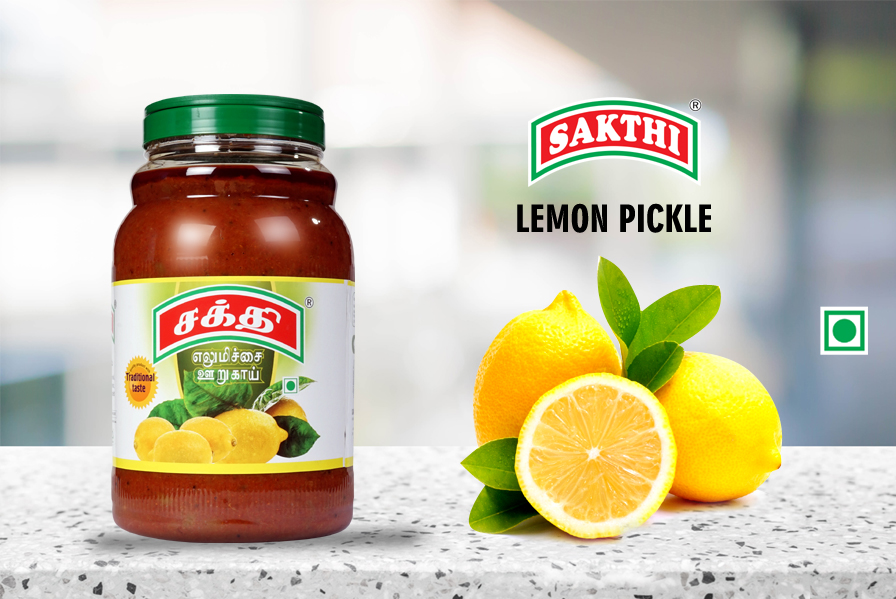VEG: (819, 306, 869, 356), (283, 376, 298, 395)
